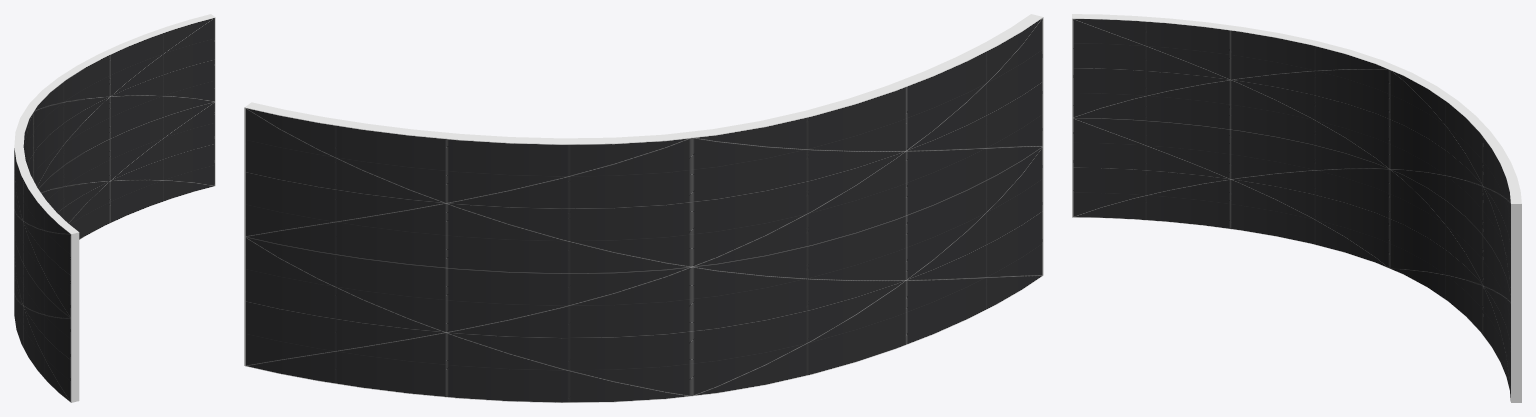
The model's file is TiltFullMediumBend.glb.
3 views of the same model, side by side, from view 1: azimuth 30°, elevation 25°; view 2: azimuth 150°, elevation 25°; view 3: azimuth 270°, elevation 25° (orthographic). The views are drawn at different scales.
Visible parts, largest first — view 1: TiltFullMediumBend; view 2: TiltFullMediumBend; view 3: TiltFullMediumBend.
Part boxes in pixels (x1=…): TiltFullMediumBend: x1=14, y1=14, x2=215, y2=402; TiltFullMediumBend: x1=244, y1=14, x2=1043, y2=402; TiltFullMediumBend: x1=1072, y1=14, x2=1521, y2=402.
Size of the model in its own units: 20.5 by 10 by 20.5.
Materials: 1 (1 with a texture image).
